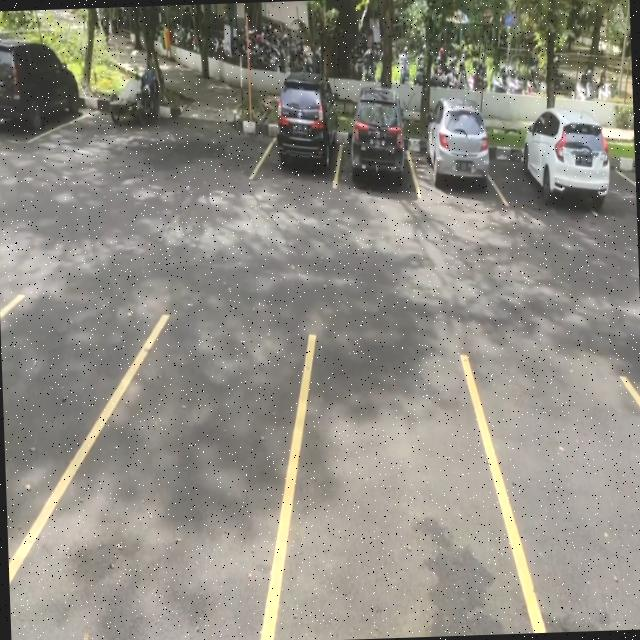empty: (259, 337, 518, 640), (74, 323, 295, 640), (507, 370, 640, 633)
occupied: (494, 116, 592, 212), (259, 86, 341, 190), (0, 38, 79, 141), (332, 98, 416, 188), (412, 105, 494, 197)
